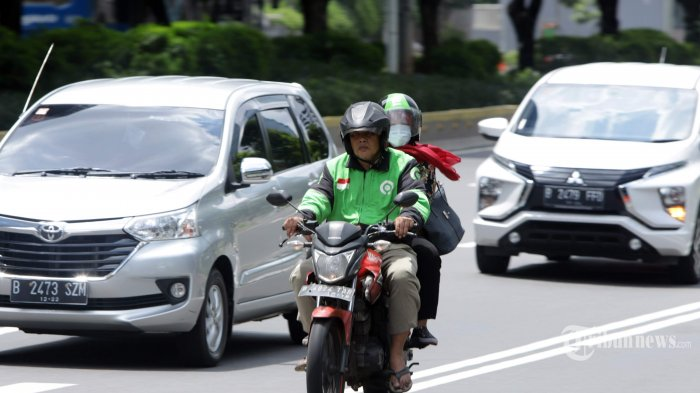plate: (11, 277, 88, 305), (544, 187, 602, 210), (300, 283, 354, 301)
